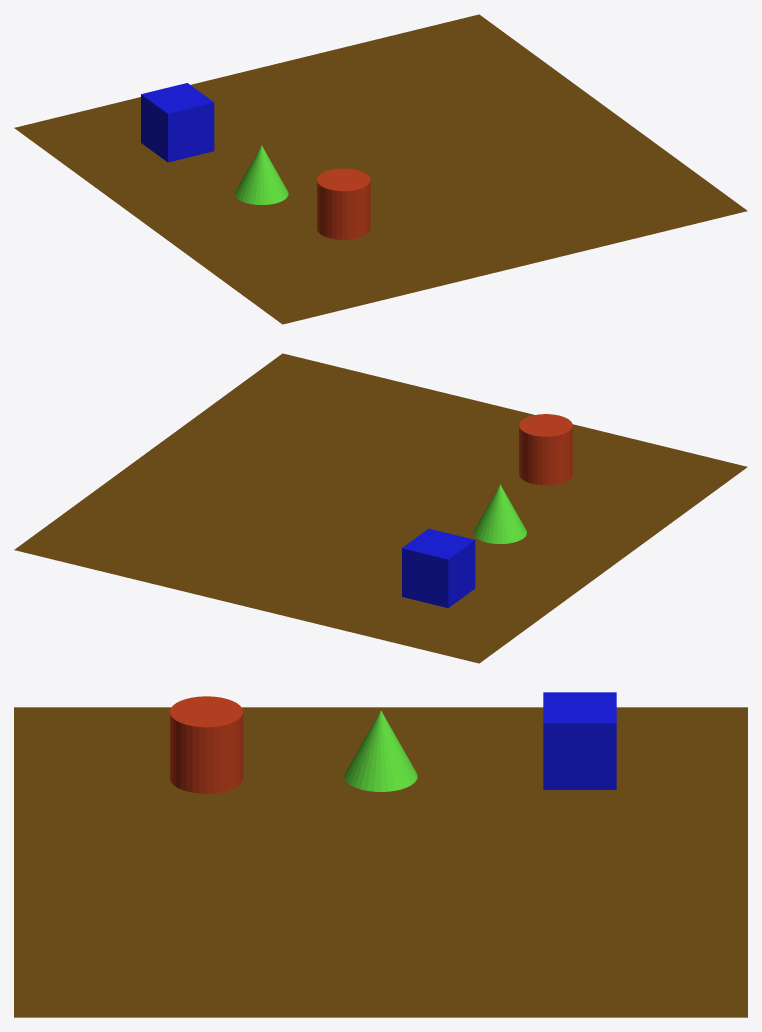
File: location-1.glb
3 renders of one model, top to bottom at view 1: azimuth 30°, elevation 25°; view 2: azimuth 150°, elevation 25°; view 3: azimuth 270°, elevation 25°, orthographic. The views are drawn at different scales.
Visible parts, largest first — view 1: floor, Cube, Cylinder, Cone; view 2: floor, Cube, Cylinder, Cone; view 3: floor, Cube, Cylinder, Cone.
Part boxes in pixels (<box>): floor: <box>14,14,747,324</box>; Cube: <box>141,83,214,162</box>; Cylinder: <box>317,168,370,239</box>; Cone: <box>235,145,288,204</box>; floor: <box>14,353,747,663</box>; Cube: <box>402,528,475,608</box>; Cylinder: <box>519,414,572,485</box>; Cone: <box>473,484,526,543</box>; floor: <box>14,707,747,1017</box>; Cube: <box>543,692,616,789</box>; Cylinder: <box>170,696,243,793</box>; Cone: <box>344,710,417,791</box>.
Size of the model in its own units: 20 by 2.5 by 20.
